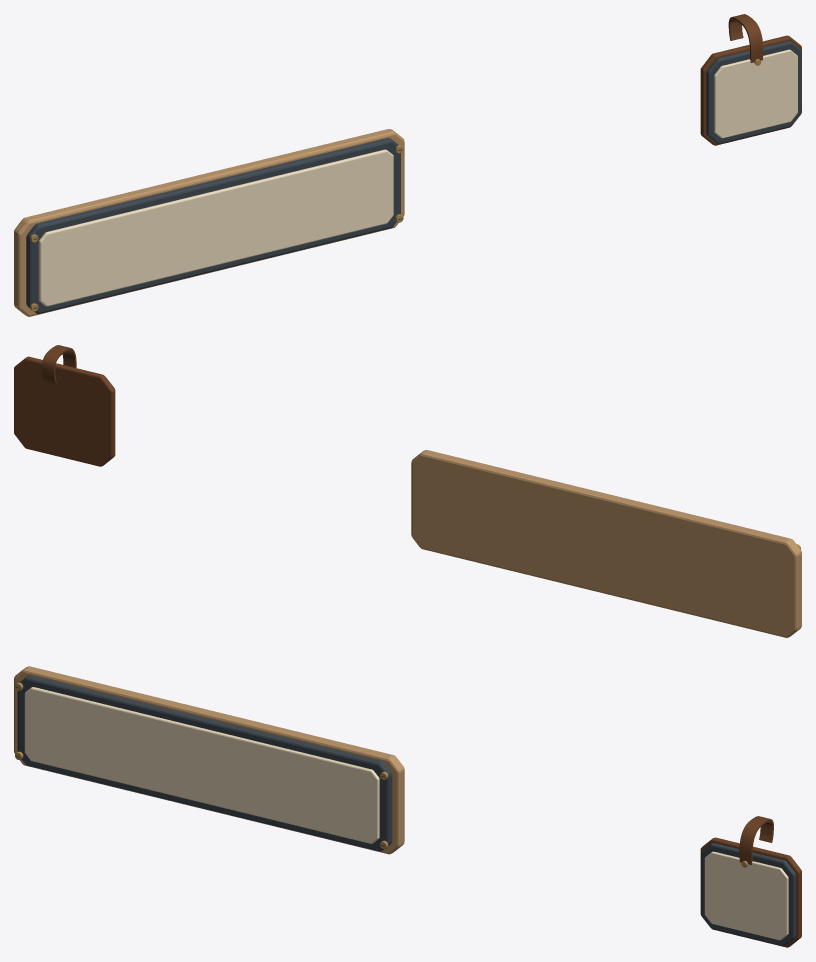
File: upgrade_stall_signage_v1.fbx
The picture shows the model from 3 angles, top to bottom: view 1: azimuth 30°, elevation 25°; view 2: azimuth 150°, elevation 25°; view 3: azimuth 330°, elevation 25°; orthographic projection.
Parts seen in each view (by area): view 1: Counter_CreamEnamel, Counter_PaintedSteel, Tag_CreamEnamel, Counter_WarmWood, Tag_Leather, Tag_PaintedSteel; view 2: Counter_WarmWood, Tag_Leather; view 3: Counter_CreamEnamel, Counter_PaintedSteel, Tag_CreamEnamel, Counter_WarmWood, Tag_Leather, Tag_PaintedSteel.
Boxes of the visible parts, x1,y1,x2,y2 form: Counter_CreamEnamel: [38, 149, 393, 306]; Counter_PaintedSteel: [26, 138, 402, 313]; Tag_CreamEnamel: [714, 49, 797, 138]; Counter_WarmWood: [14, 129, 404, 316]; Tag_Leather: [700, 14, 801, 145]; Tag_PaintedSteel: [706, 41, 801, 144]; Counter_WarmWood: [411, 450, 801, 637]; Tag_Leather: [14, 345, 115, 466]; Counter_CreamEnamel: [24, 687, 379, 843]; Counter_PaintedSteel: [16, 675, 392, 851]; Tag_CreamEnamel: [704, 851, 788, 940]; Counter_WarmWood: [14, 666, 404, 854]; Tag_Leather: [700, 816, 801, 947]; Tag_PaintedSteel: [701, 843, 796, 945].
Bounding box in the file's own units: 8.69 × 1.22 × 0.488.
